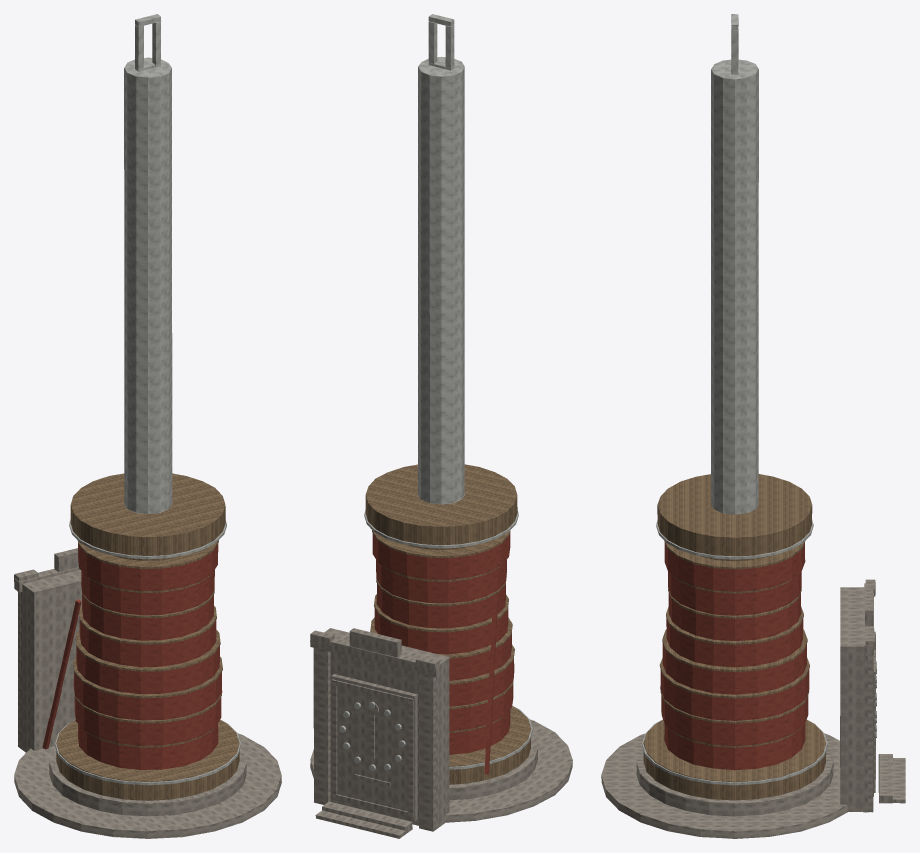
Rendered from the_spindle.glb.
3 views of the same model, side by side, from view 1: azimuth 30°, elevation 25°; view 2: azimuth 150°, elevation 25°; view 3: azimuth 270°, elevation 25° (orthographic). The views are drawn at different scales.
Parts seen in each view (by area): view 1: TheSpindle; view 2: TheSpindle, Door; view 3: TheSpindle.
Boxes of the visible parts, x1,y1,x2,y2 form: TheSpindle: [14, 14, 281, 838]; TheSpindle: [310, 14, 572, 838]; Door: [331, 674, 417, 821]; TheSpindle: [601, 14, 905, 838].
Size of the model in its own units: 10.66 by 33.56 by 12.13.
Materials: 4 (4 with a texture image).
